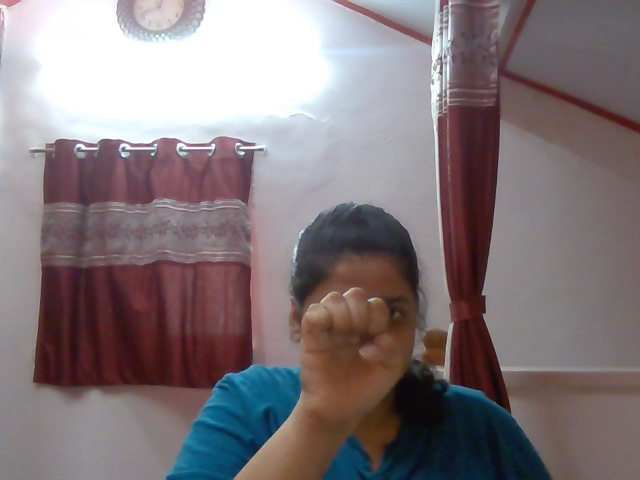s: (287, 278, 420, 425)
